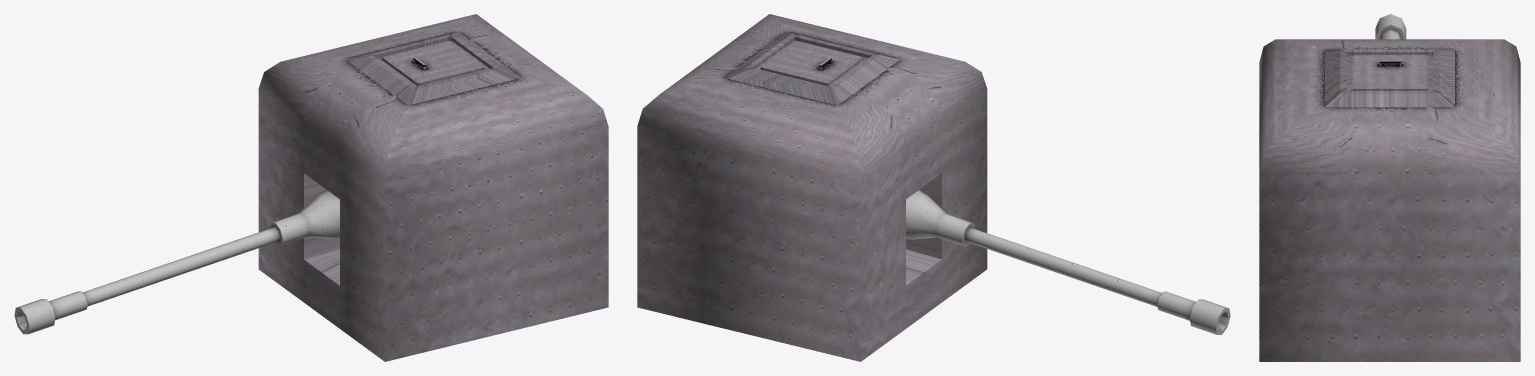
Rendered from torretaUVW.FBX.
3 views of the same model, side by side, from view 1: azimuth 30°, elevation 25°; view 2: azimuth 150°, elevation 25°; view 3: azimuth 270°, elevation 25° (orthographic). The views are drawn at different scales.
Parts seen in each view (by area): view 1: Box001, Cylinder001; view 2: Box001, Cylinder001; view 3: Box001, Cylinder001.
Boxes of the visible parts, <box> form: Box001: <box>258,14,608,361</box>; Cylinder001: <box>14,189,339,334</box>; Box001: <box>637,14,987,361</box>; Cylinder001: <box>906,190,1230,334</box>; Box001: <box>1259,39,1520,361</box>; Cylinder001: <box>1375,14,1406,39</box>.
Bounding box in the file's own units: 545 × 229 × 228.
